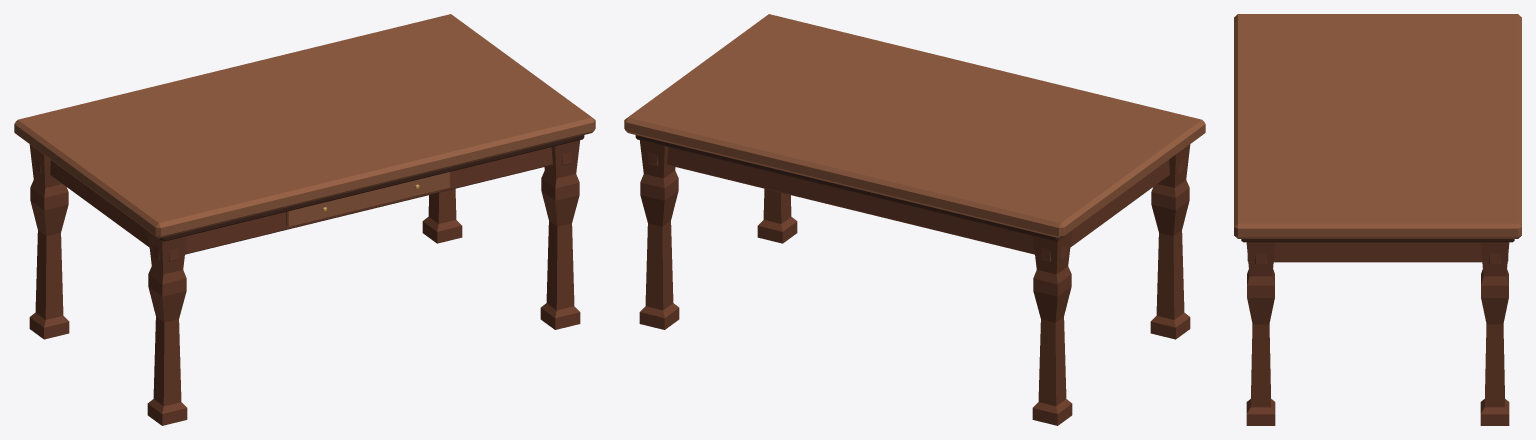
The model's file is study_desk.glb.
The picture shows the model from 3 angles, left to right: view 1: azimuth 30°, elevation 25°; view 2: azimuth 150°, elevation 25°; view 3: azimuth 270°, elevation 25°; orthographic projection.
Visible parts, largest first — view 1: Top, Aprons, Leg_0_0, Leg_1_0, Leg_0_1, FrontDrawer, TopUndercut, Leg_1_1; view 2: Top, Aprons, Leg_0_1, Leg_1_1, Leg_0_0, TopUndercut, Leg_1_0; view 3: Top, Aprons, Leg_1_0, Leg_1_1, TopUndercut.
Boxes of the visible parts, box(x1,y1,x2,y2) form: Top: box(14, 14, 595, 238); Aprons: box(35, 147, 571, 261); Leg_0_0: box(147, 231, 187, 425); Leg_1_0: box(540, 140, 580, 329); Leg_0_1: box(29, 144, 69, 339); FrontDrawer: box(286, 172, 450, 227); TopUndercut: box(159, 135, 584, 241); Leg_1_1: box(422, 188, 462, 243); Top: box(624, 14, 1205, 238); Aprons: box(648, 147, 1184, 261); Leg_0_1: box(1032, 231, 1072, 425); Leg_1_1: box(639, 140, 679, 329); Leg_0_0: box(1150, 144, 1190, 339); TopUndercut: box(635, 135, 1060, 241); Leg_1_0: box(757, 188, 797, 243); Top: box(1234, 14, 1521, 238); Aprons: box(1247, 242, 1508, 264); Leg_1_0: box(1246, 242, 1275, 425); Leg_1_1: box(1480, 242, 1509, 425); TopUndercut: box(1241, 239, 1514, 242).
Size of the model in its own units: 1.75 by 0.79 by 1.
